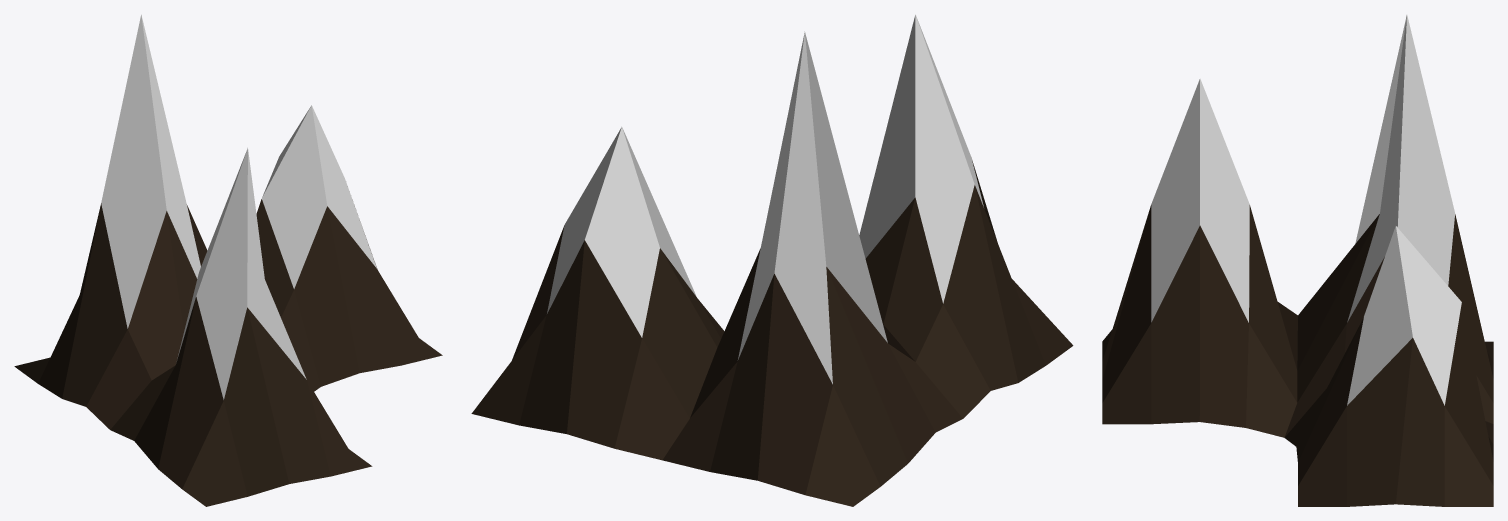
The model's file is Mountain_01.fbx.
3 renders of one model, left to right at view 1: azimuth 30°, elevation 25°; view 2: azimuth 150°, elevation 25°; view 3: azimuth 270°, elevation 25°, orthographic. The views are drawn at different scales.
Visible parts, largest first — view 1: Plane.001; view 2: Plane.001; view 3: Plane.001.
Part boxes in pixels (x1,y1,x2,y2): Plane.001: [14, 14, 442, 506]; Plane.001: [471, 14, 1073, 506]; Plane.001: [1102, 15, 1493, 506].
Size of the model in its own units: 152 by 161 by 152.
